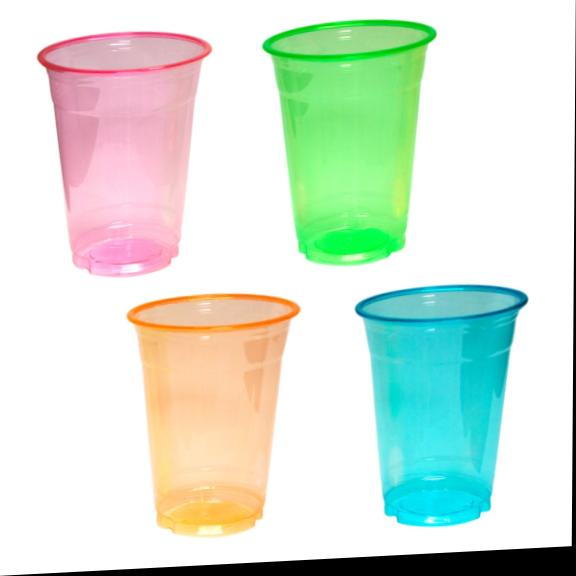Plastik: (380, 259, 538, 539), (39, 28, 212, 277), (264, 15, 436, 265), (129, 293, 300, 537)
